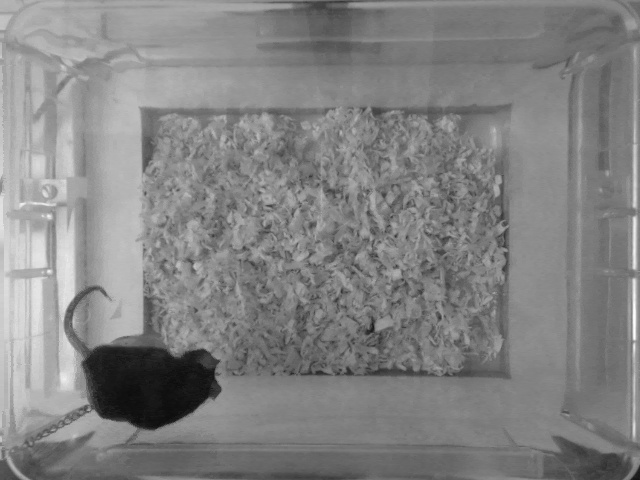mice: (59, 284, 229, 430)
